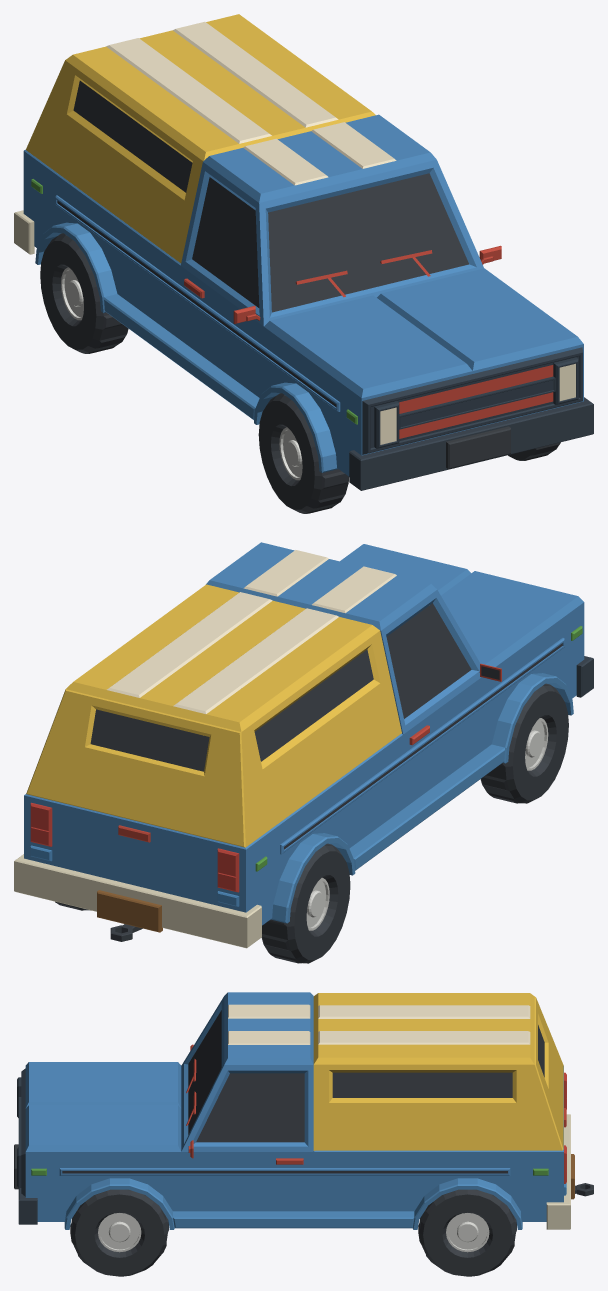
File: car_a01.gltf
The picture shows the model from 3 angles, top to bottom: view 1: azimuth 30°, elevation 25°; view 2: azimuth 150°, elevation 25°; view 3: azimuth 270°, elevation 25°; orthographic projection. The views are drawn at different scales.
Parts seen in each view (by area): view 1: Box2229, car_a01_001, Box2232, Cylinder206, Box2230, Box2243, Box2238; view 2: Box2229, car_a01_001, Box2232, Cylinder206, Box2245, Box2243; view 3: Box2229, car_a01_001, Cylinder206, Box2232, Box2230.
Boxes of the visible parts, box(x1,y1,x2,y2) form: Box2229: box(23, 14, 583, 476); car_a01_001: box(73, 21, 575, 444); Box2232: box(14, 195, 593, 490); Cylinder206: box(40, 233, 560, 513); Box2230: box(362, 347, 582, 454); Box2243: box(446, 426, 510, 469); Box2238: box(233, 245, 501, 323); Box2229: box(24, 542, 584, 925); car_a01_001: box(90, 550, 499, 771); Box2232: box(14, 638, 593, 948); Cylinder206: box(55, 683, 568, 963); Box2245: box(30, 802, 239, 906); Box2243: box(97, 890, 162, 932); Box2229: box(25, 992, 563, 1221); car_a01_001: box(188, 1004, 544, 1142); Cylinder206: box(70, 1189, 516, 1276); Box2232: box(18, 1108, 593, 1229); Box2230: box(17, 1068, 25, 1196).
Size of the model in its own units: 2.41 by 2.23 by 5.68.
1 material, 1 textured.
